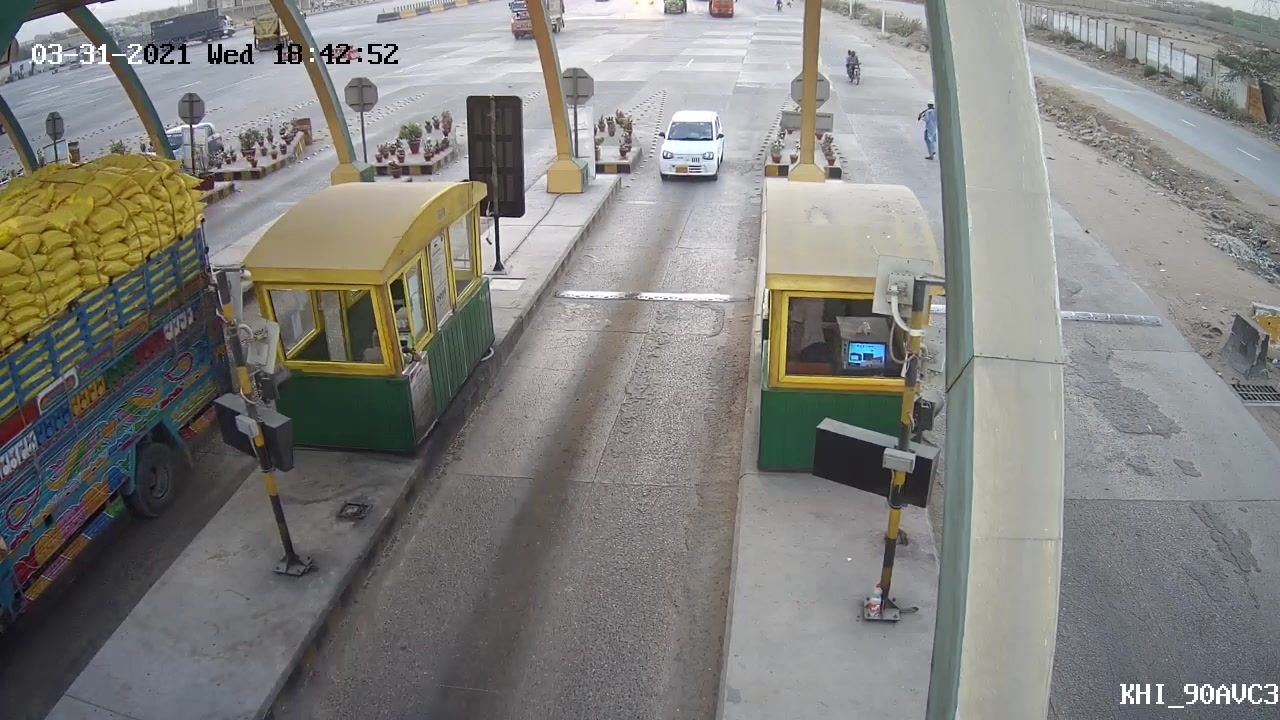F1: (652, 108, 737, 179)
